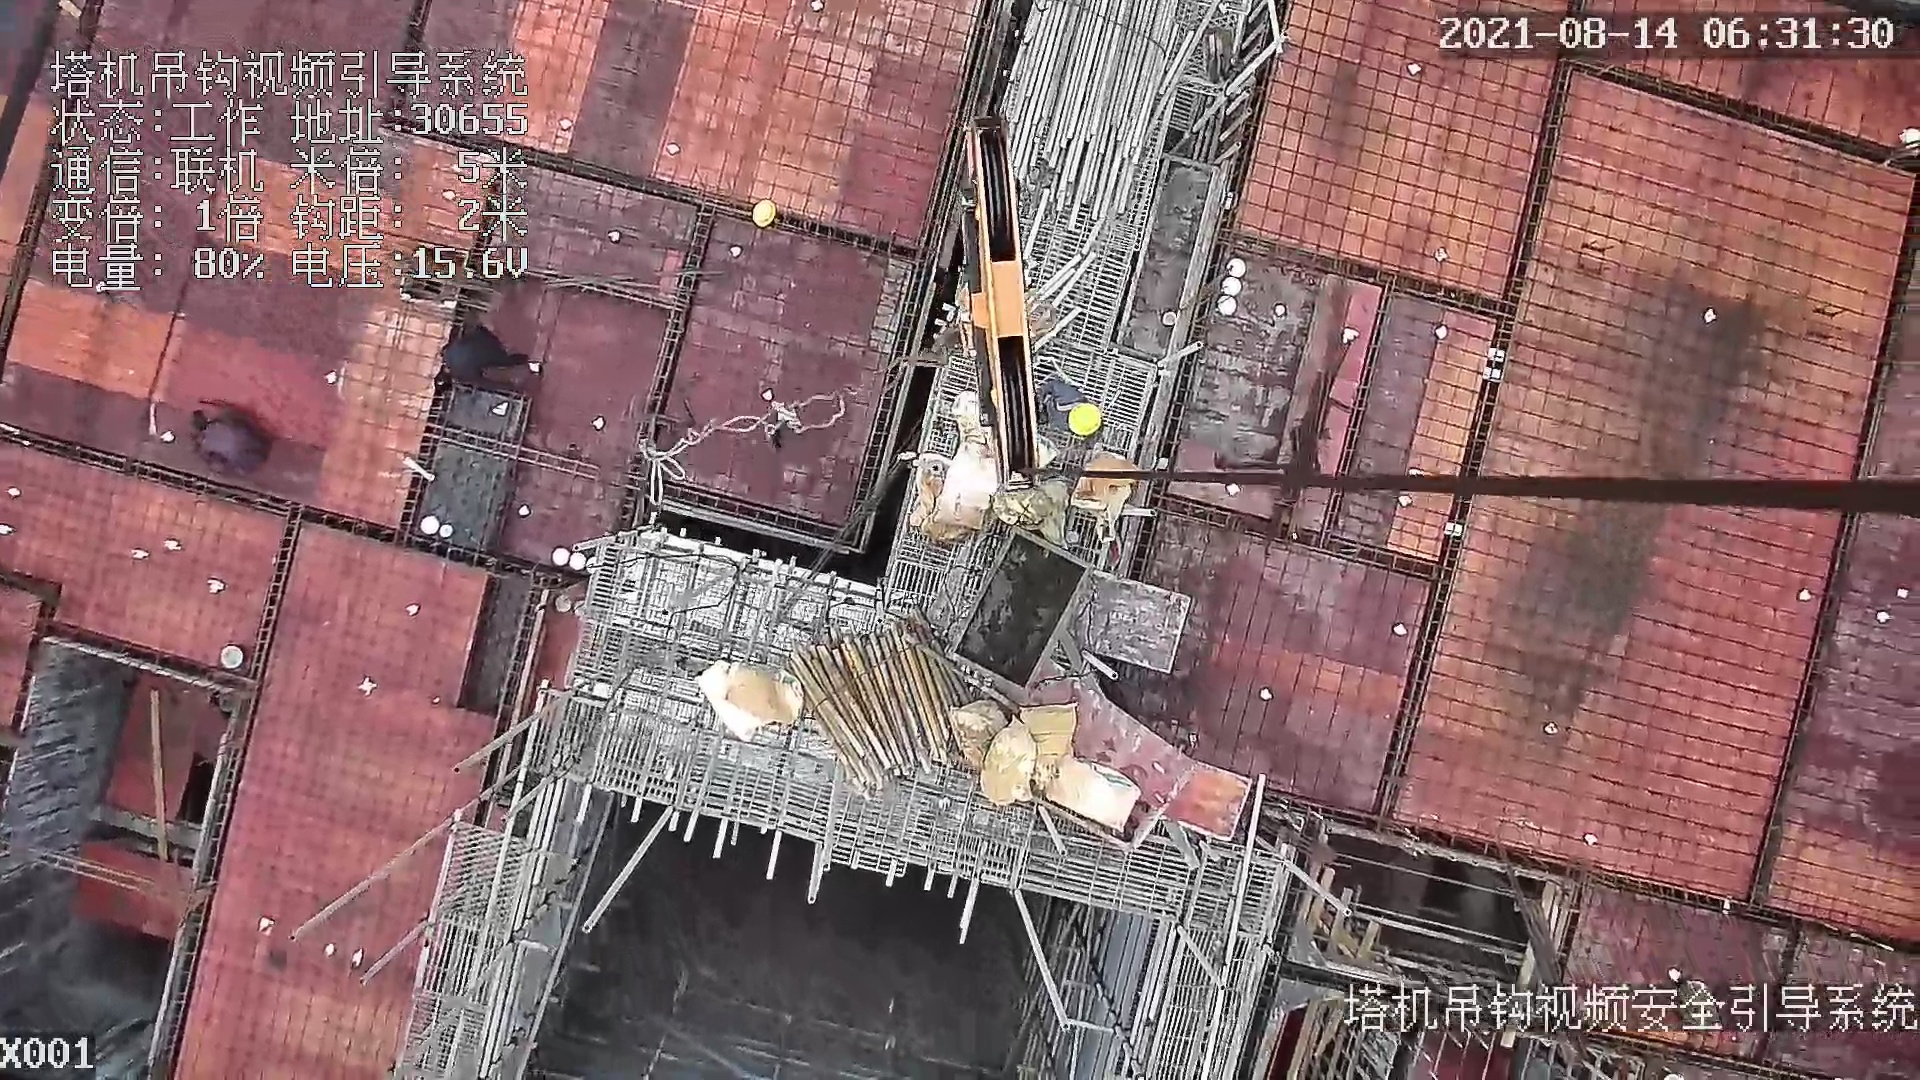helmet: (1068, 402, 1105, 439), (753, 199, 778, 231)
hook: (941, 118, 1049, 491)
hopper: (967, 530, 1097, 699)
person: (425, 328, 532, 399), (177, 406, 275, 472), (1042, 383, 1106, 453)
scaffold: (783, 595, 976, 780)
